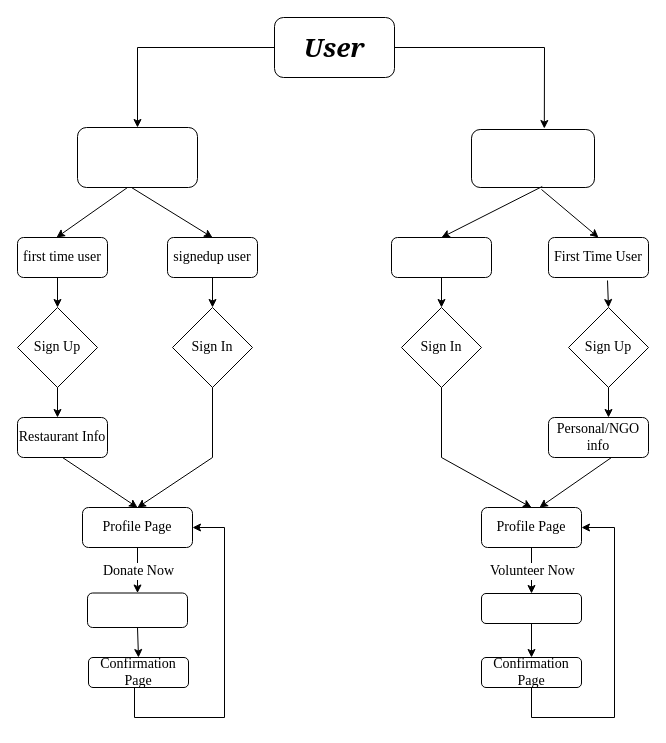
Some shapes in this 666 by 743 pixel diagram are drawn without their labels. Each missing label, with the box of its shape:
leftover input: (86, 592, 188, 628)
Restaurant/Food provider: (76, 126, 198, 188)
Restaurants Waiting: (480, 592, 582, 624)
Signed Up user: (390, 236, 492, 278)
V o lunteer/NGO: (470, 128, 594, 188)
